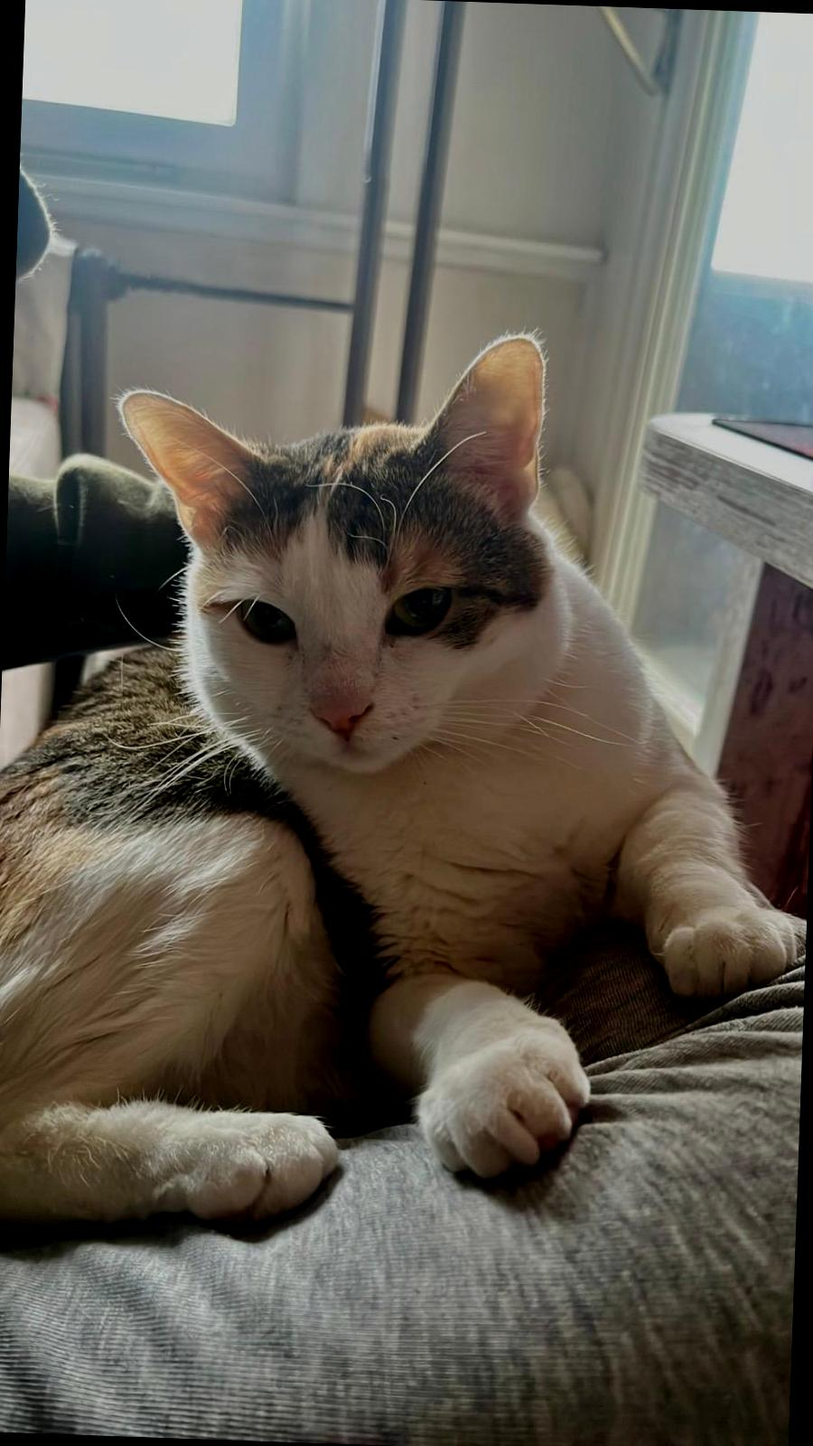macka: (0, 312, 813, 1249)
